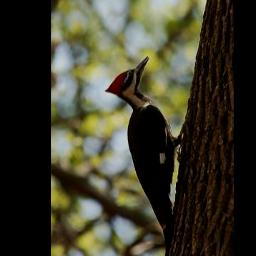Woodpecker: (105, 55, 196, 256)
